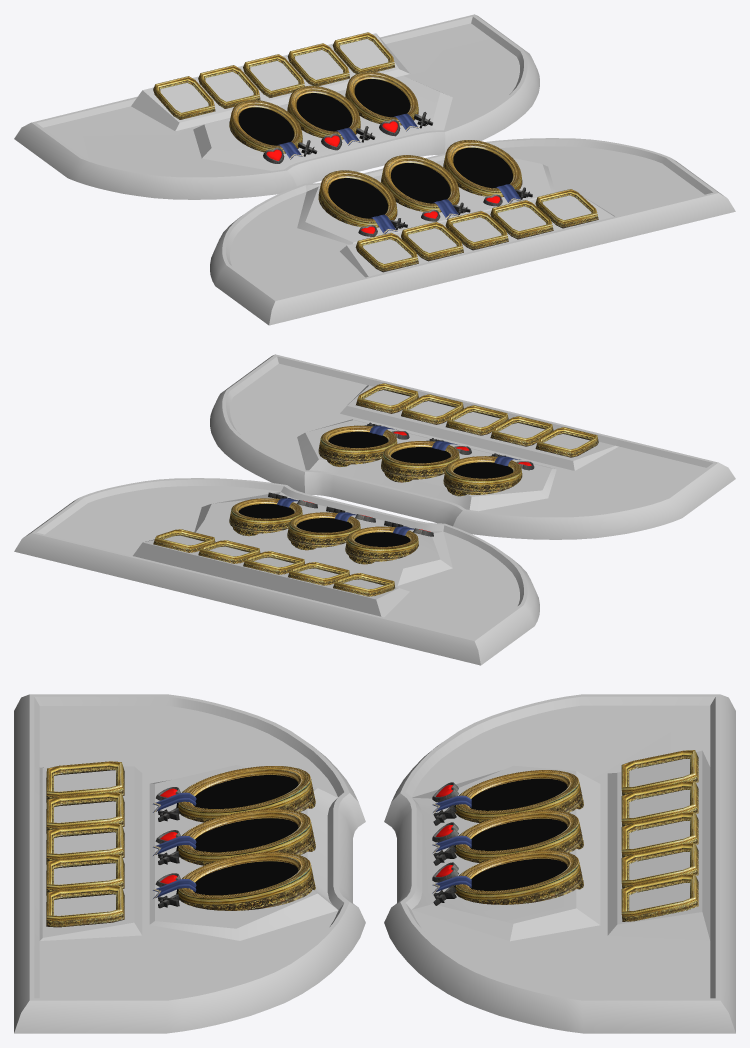
The model's file is Table.fbx.
3 views of the same model, one above another, from view 1: azimuth 30°, elevation 25°; view 2: azimuth 150°, elevation 25°; view 3: azimuth 270°, elevation 25° (orthographic). The views are drawn at different scales.
Parts seen in each view (by area): view 1: Table_1.001, Table_1, Special_1, Special_1.001, ChampionSlot_1, ChampionSlot_2, ChampionSlot_3, EnemySlot_1, EnemySlot_3, EnemySlot_2; view 2: Table_1.001, Table_1, Special_1, Special_1.001, ChampionSlot_1, ChampionSlot_2, ChampionSlot_3, EnemySlot_1, EnemySlot_2, EnemySlot_3; view 3: Table_1.001, Table_1, Special_1, Special_1.001, ChampionSlot_3, EnemySlot_3, ChampionSlot_2, ChampionSlot_1, EnemySlot_2, EnemySlot_1.
Boxes of the visible parts, x1,y1,x2,y2 form: Table_1.001: (14,14,539,199); Table_1: (210,138,735,325); Special_1: (355,189,598,272); Special_1.001: (153,32,394,119); ChampionSlot_1: (318,170,407,236); ChampionSlot_2: (381,155,470,221); ChampionSlot_3: (443,140,532,206); EnemySlot_1: (229,100,317,163); EnemySlot_3: (345,71,432,136); EnemySlot_2: (287,85,375,150); Table_1.001: (14,478,539,665); Table_1: (210,354,735,539); Special_1: (356,383,598,457); Special_1.001: (153,529,394,596); ChampionSlot_1: (443,453,534,496); ChampionSlot_2: (381,438,471,482); ChampionSlot_3: (318,422,409,466); EnemySlot_1: (345,521,433,564); EnemySlot_2: (287,506,375,550); EnemySlot_3: (229,492,317,536); Table_1.001: (384,694,735,1033); Table_1: (14,694,365,1033); Special_1: (46,761,124,927); Special_1.001: (621,750,698,921); ChampionSlot_3: (153,852,315,910); EnemySlot_3: (432,850,583,905); ChampionSlot_2: (153,809,315,865); ChampionSlot_1: (153,766,315,822); EnemySlot_2: (432,810,583,865); EnemySlot_1: (432,770,583,825).
Bounding box in the file's own units: 1410 × 106 × 1334.
